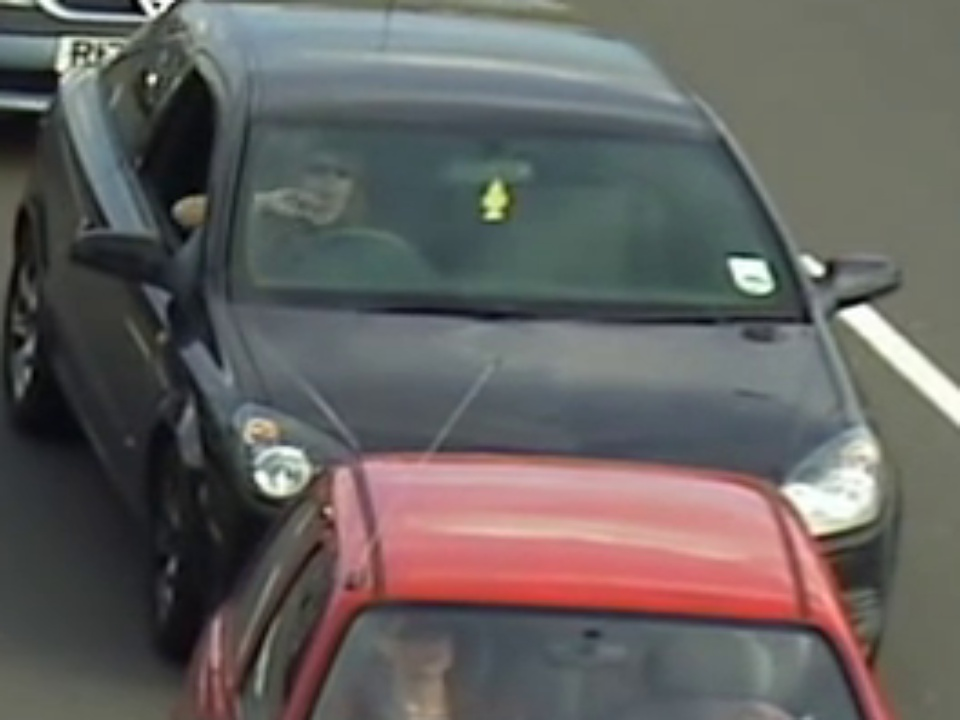ONE: (242, 116, 816, 316)
